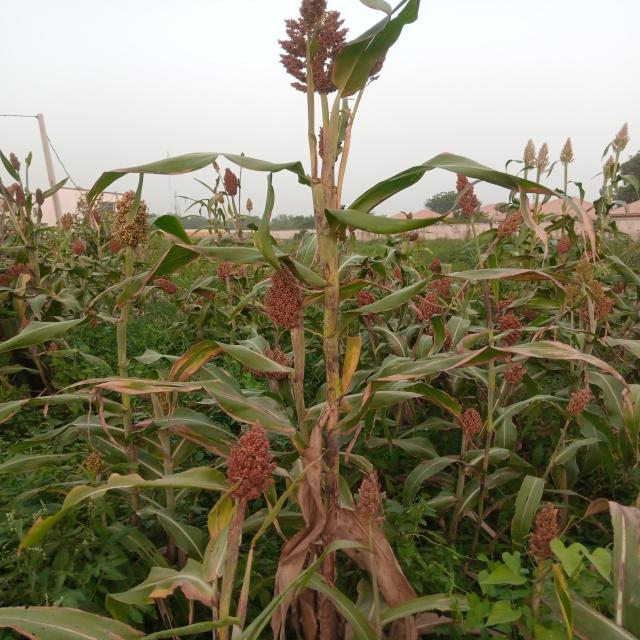RipeSorghum: (206, 426, 308, 507), (250, 253, 319, 348)
